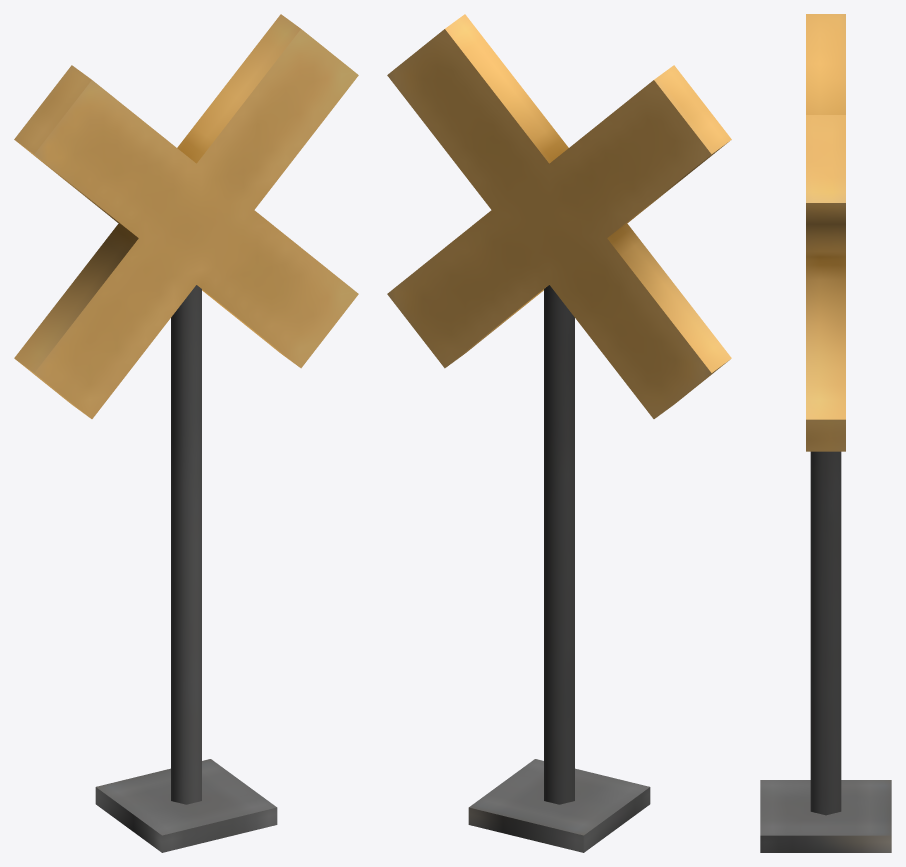
File: Stop_Sign.FBX
3 views of the same model, side by side, from view 1: azimuth 30°, elevation 25°; view 2: azimuth 150°, elevation 25°; view 3: azimuth 270°, elevation 25° (orthographic).
Parts seen in each view (by area): view 1: Stop_Sign; view 2: Stop_Sign; view 3: Stop_Sign.
Boxes of the visible parts, x1,y1,x2,y2 form: Stop_Sign: (14,14,358,852); Stop_Sign: (387,14,731,852); Stop_Sign: (760,14,891,852).
Bounding box in the file's own units: 222 × 502 × 78.8.
